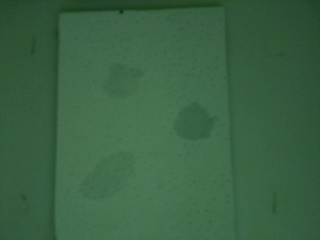Water_detected: (103, 150, 141, 188), (180, 107, 219, 142), (102, 68, 136, 91)
